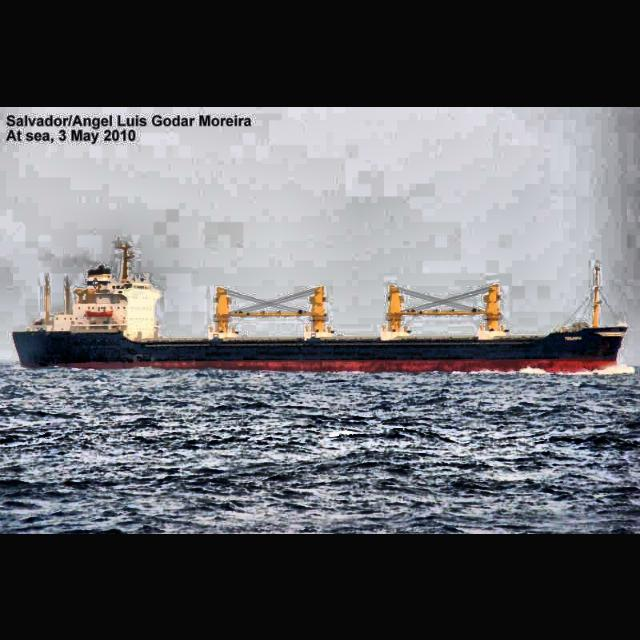bulk_carrier: (12, 238, 630, 374)
